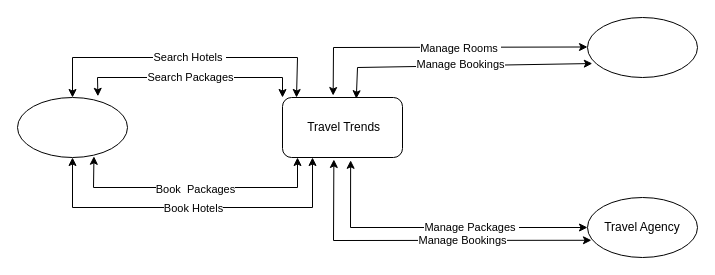
Some shapes in this 715 by 275 pixel diagram are drawn without their labels. The shapes that lost their labels are listed below. From the top down, each one's box as (x1, y1, x2, y2) in pixels, then its label:
(586, 16, 698, 78): Hotel
(16, 96, 128, 158): User
